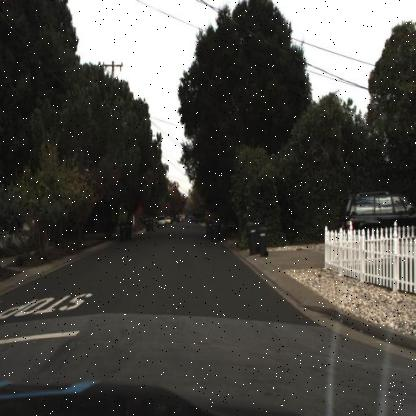car: (336, 192, 416, 237), (157, 216, 166, 227), (165, 216, 171, 225)
